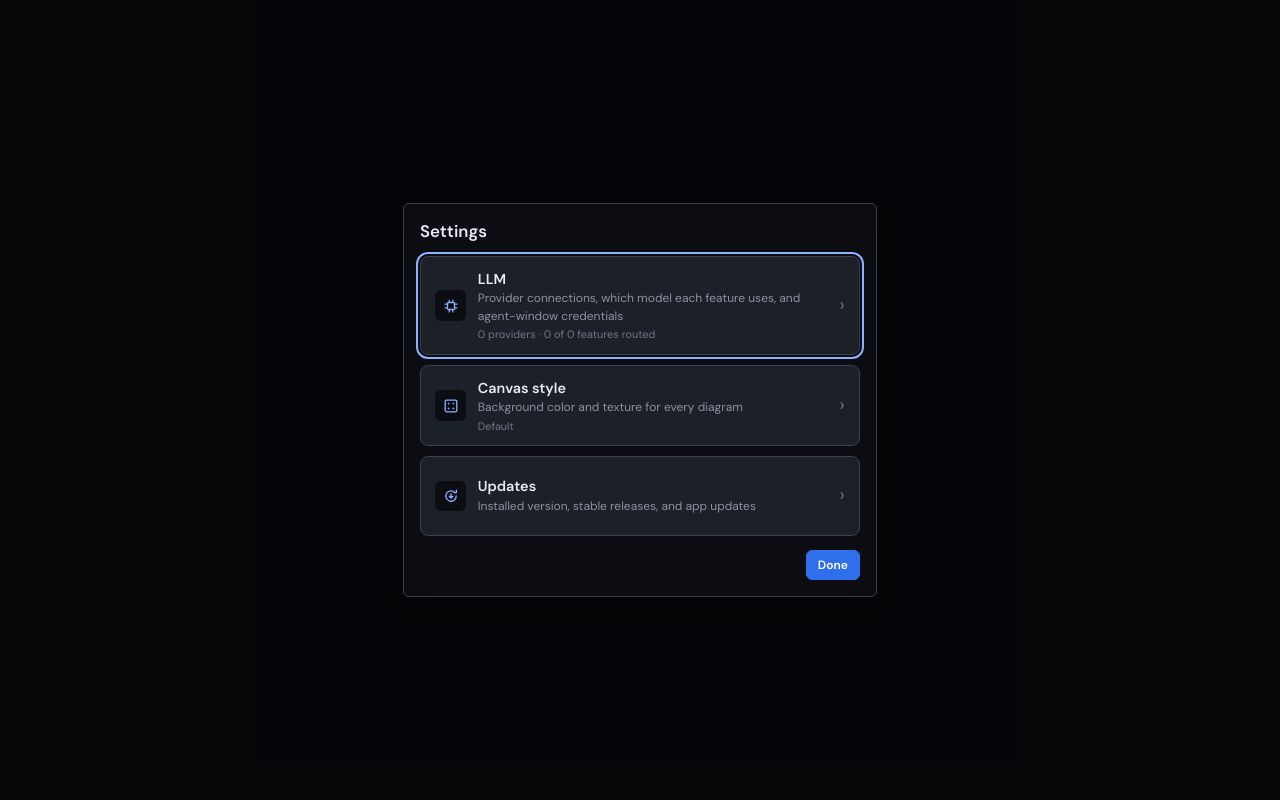
Scenario: SettingsDialog canvas style › opens the canvas style panel from its row
This screenshot has width=1280, height=800.
Expected: the text "0 providers · 0 of 0 features routed" is shown, [478, 327, 655, 341]
Click the button with test id "settings-open-canvas-style" at point(640, 406), box [420, 365, 860, 446]
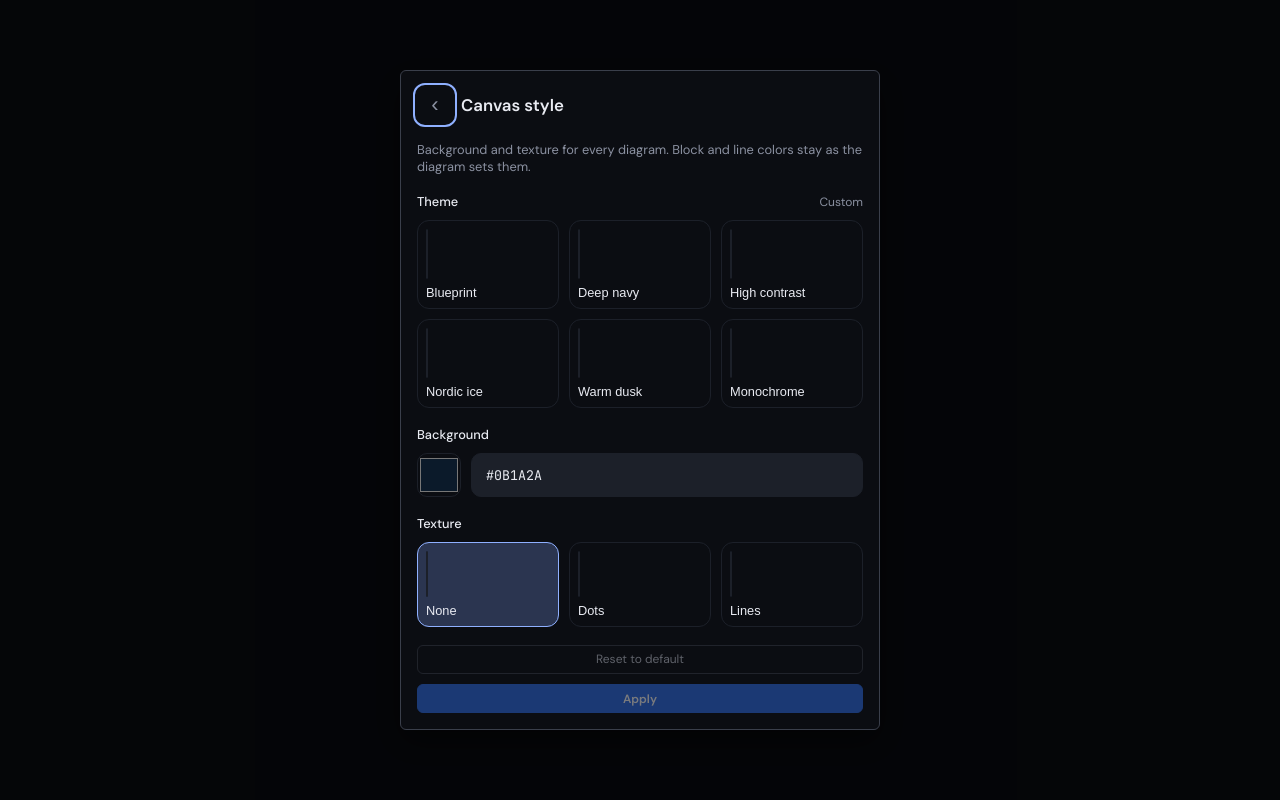
Expected: the element with test id "canvas-style-dialog" that starts with "Canvas style" is shown
